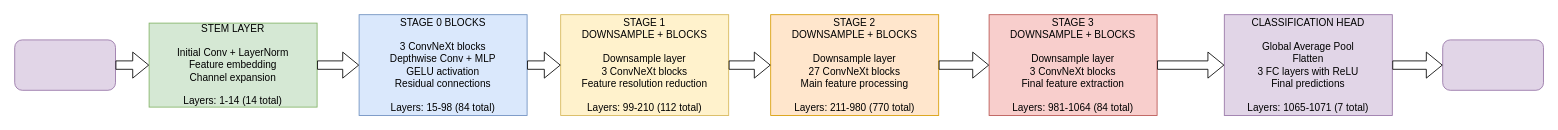
The diagram is 1558 pixels wide and 130 high, and some of its shapes have lost their labels. The centre of each missing label's shape, as x and y in pixels:
Class Predictions [logits/probabilities for total 13 class]: the point at 1493,64
Input Image (224×224×3): the point at 65,64
